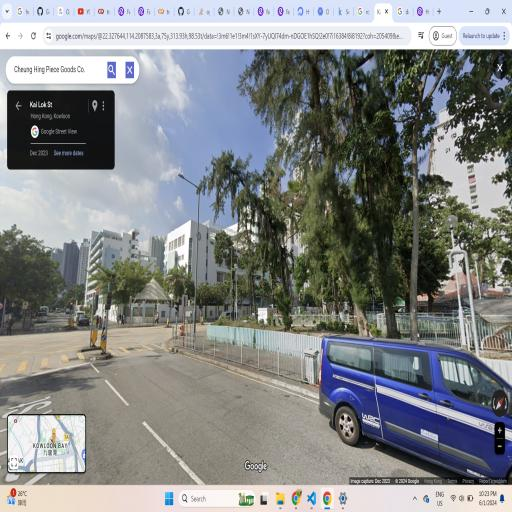Roads: (4, 329, 499, 481)
Trees: (209, 42, 439, 338), (0, 235, 56, 330), (101, 262, 149, 326)
